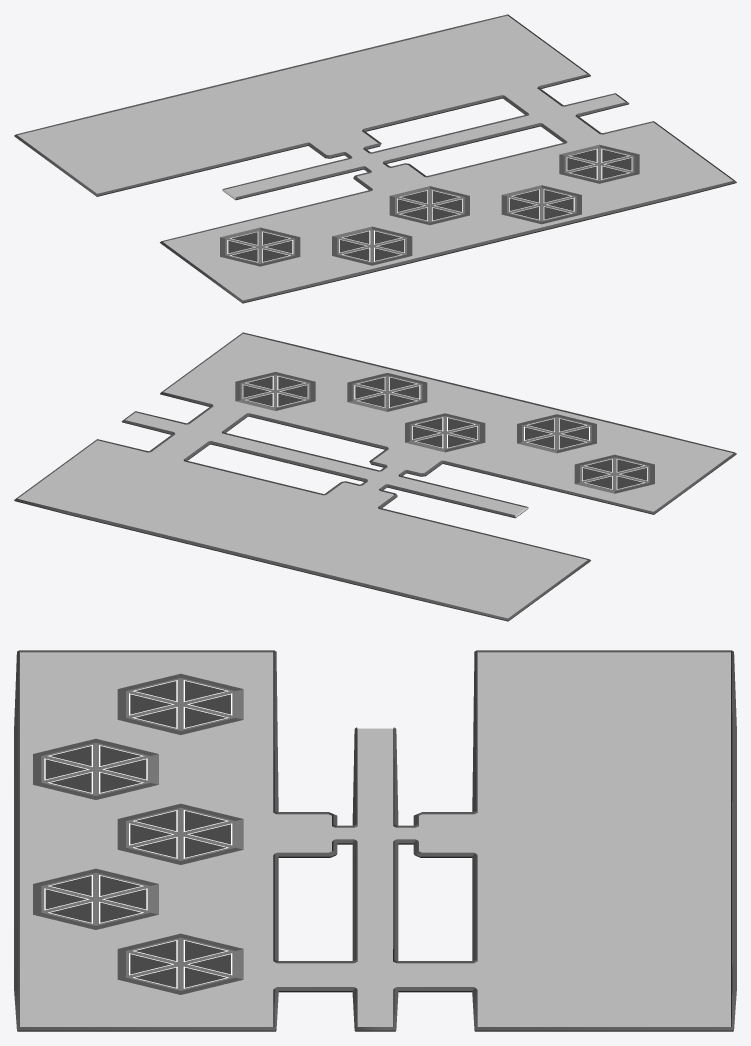
Rendered from Hangar_Floor.fbx.
3 renders of one model, top to bottom at view 1: azimuth 30°, elevation 25°; view 2: azimuth 150°, elevation 25°; view 3: azimuth 270°, elevation 25°, orthographic. The views are drawn at different scales.
Parts seen in each view (by area): view 1: Hangar_Floor1; view 2: Hangar_Floor1; view 3: Hangar_Floor1.
Part boxes in pixels (left/top/right/bottom): Hangar_Floor1: left=14, top=14, right=736, bottom=303; Hangar_Floor1: left=14, top=332, right=736, bottom=621; Hangar_Floor1: left=14, top=650, right=736, bottom=1031.
Bounding box in the file's own units: 38488 × 203 × 31041.
